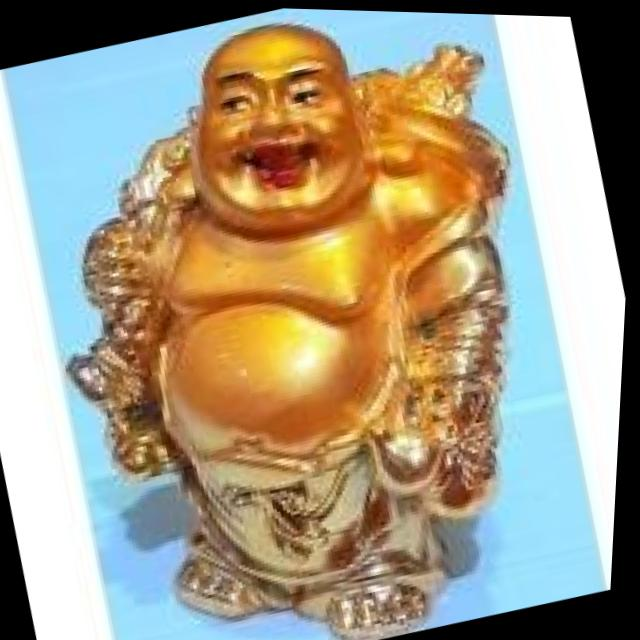Smiling Buddha: (67, 2, 481, 513)
